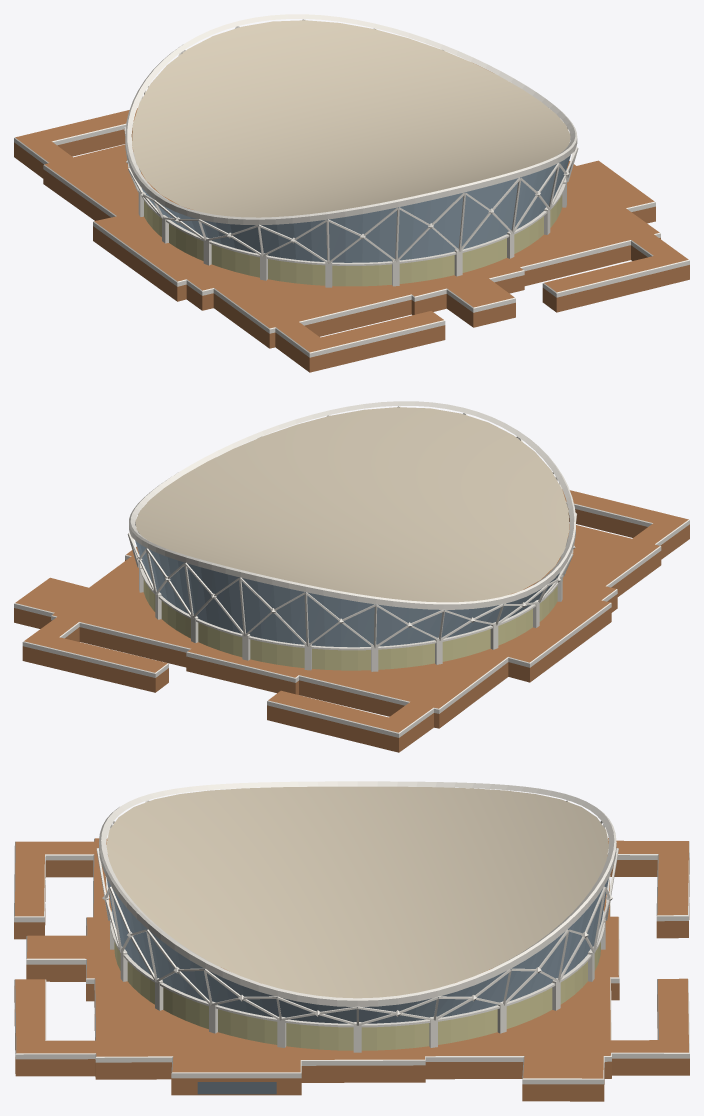
File: phx-veterans-memorial-coliseum.glb
The picture shows the model from 3 angles, top to bottom: view 1: azimuth 30°, elevation 25°; view 2: azimuth 150°, elevation 25°; view 3: azimuth 270°, elevation 25°; orthographic projection. The views are drawn at different scales.
Parts seen in each view (by area): view 1: Arizona Veterans Memorial Coliseum; view 2: Arizona Veterans Memorial Coliseum; view 3: Arizona Veterans Memorial Coliseum.
Part boxes in pixels (x1,y1,x2,y2): Arizona Veterans Memorial Coliseum: (14,14,689,372); Arizona Veterans Memorial Coliseum: (14,401,689,752); Arizona Veterans Memorial Coliseum: (14,781,689,1101).
Size of the model in its own units: 137 by 32.71 by 154.
